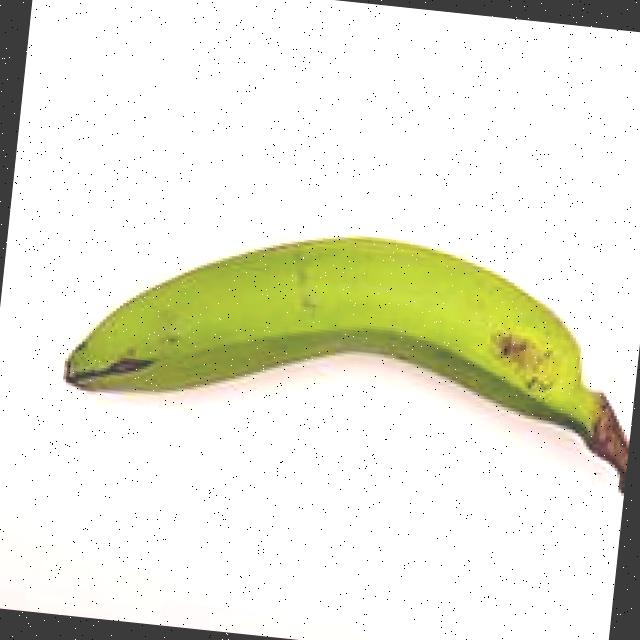Raw: (37, 162, 640, 541)
